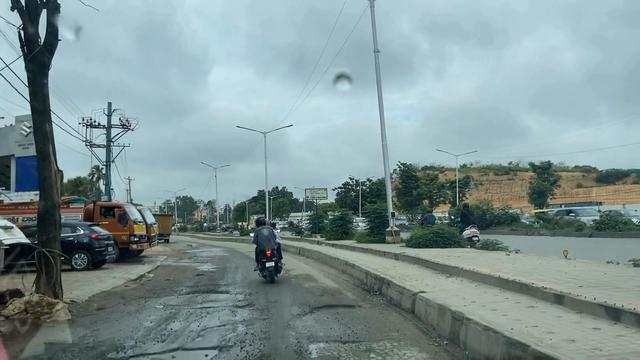RoadDamages: (156, 282, 245, 331), (304, 338, 427, 360), (131, 333, 214, 360), (299, 302, 366, 315)
